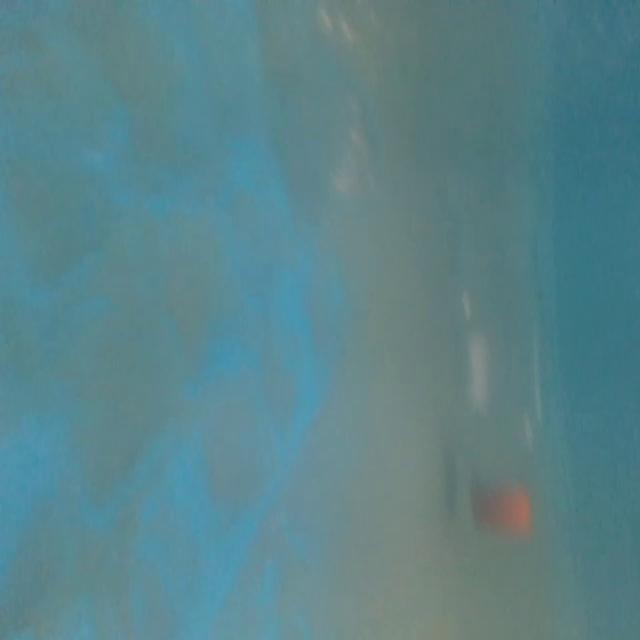plastic bottle: (446, 125, 553, 548)
